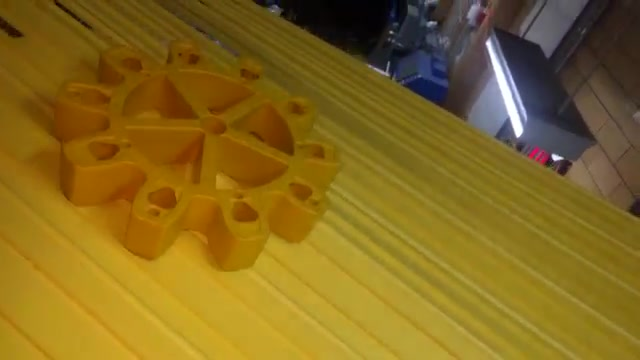gear: (41, 11, 345, 295)
